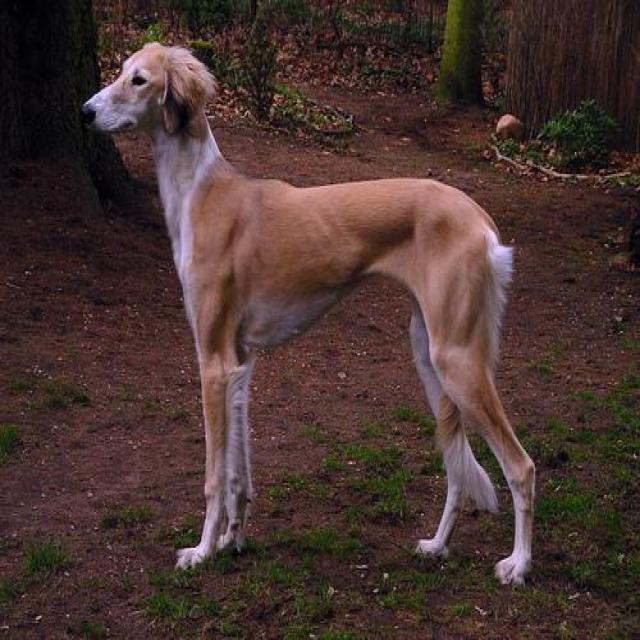saluki: (80, 31, 546, 594)
